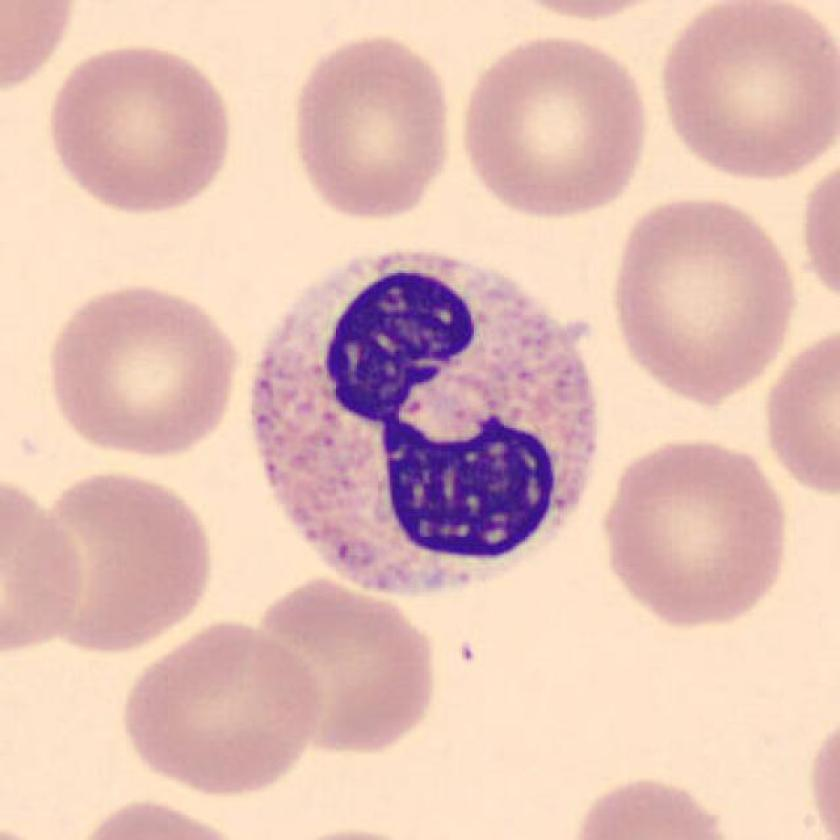neutrophil: (253, 256, 597, 597)
